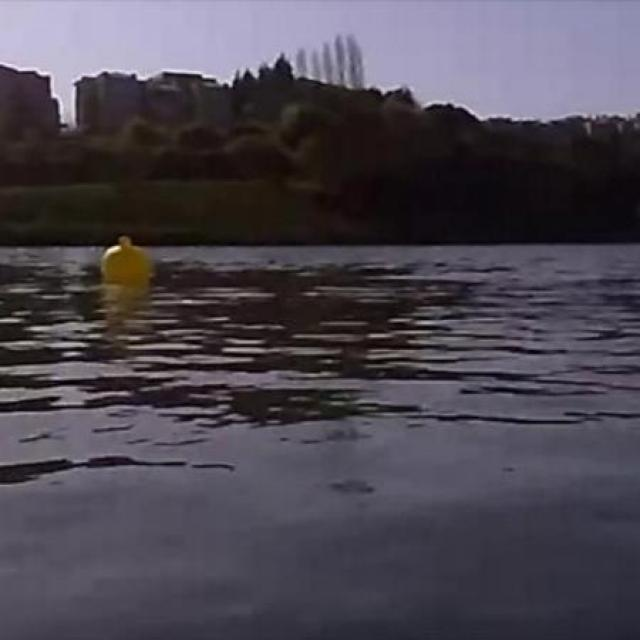buoy: (102, 238, 150, 284)
